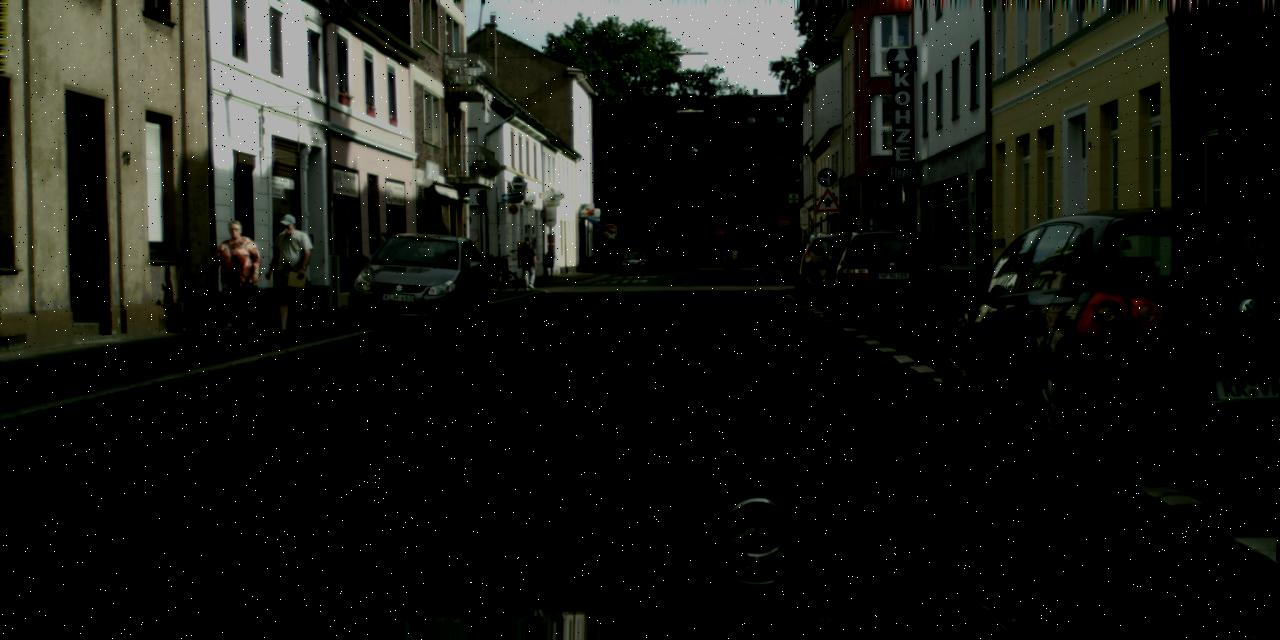ped: (265, 212, 314, 334), (213, 220, 258, 330), (518, 241, 538, 288), (610, 244, 622, 272), (730, 246, 740, 272)
